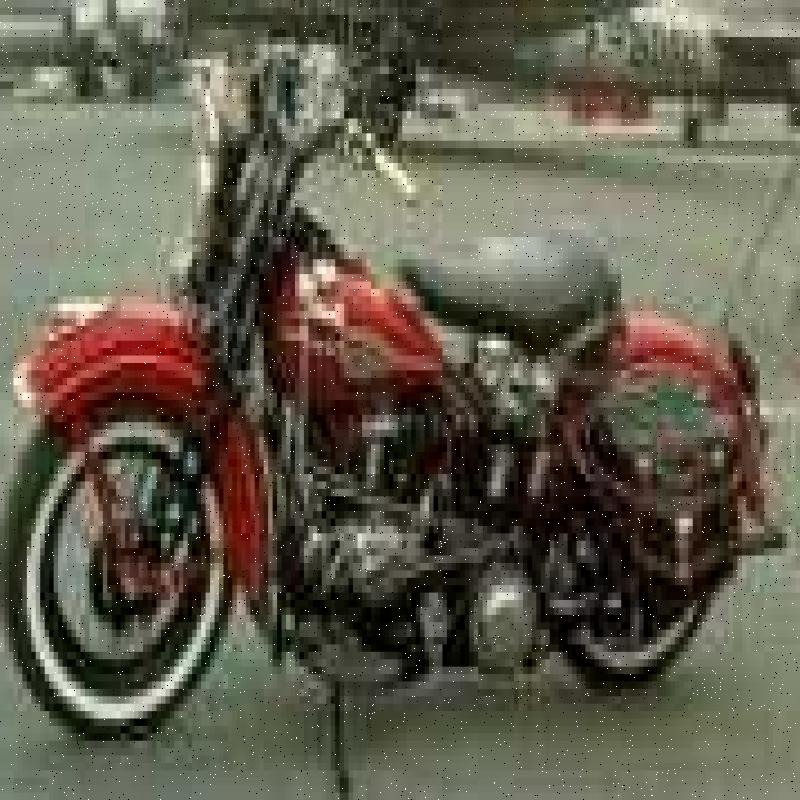bike: (0, 12, 759, 730)
